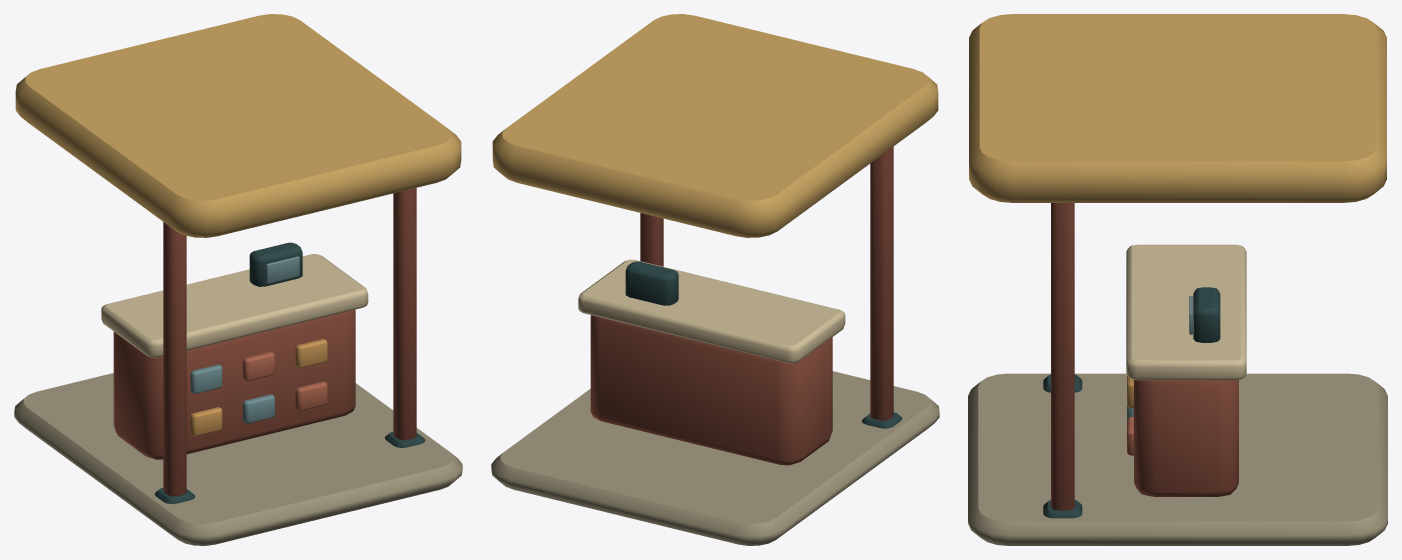
File: drive_through_works_2.glb
The picture shows the model from 3 angles, left to right: view 1: azimuth 30°, elevation 25°; view 2: azimuth 150°, elevation 25°; view 3: azimuth 270°, elevation 25°; orthographic projection. The views are drawn at different scales.
Visible parts, largest first — view 1: DriveThroughWorks2; view 2: DriveThroughWorks2; view 3: DriveThroughWorks2.
Boxes of the visible parts, bbox=[...] form: DriveThroughWorks2: bbox=[14, 14, 462, 545]; DriveThroughWorks2: bbox=[491, 14, 939, 545]; DriveThroughWorks2: bbox=[968, 14, 1387, 545].
Bounding box in the file's own units: 2.19 × 2.51 × 2.48.
